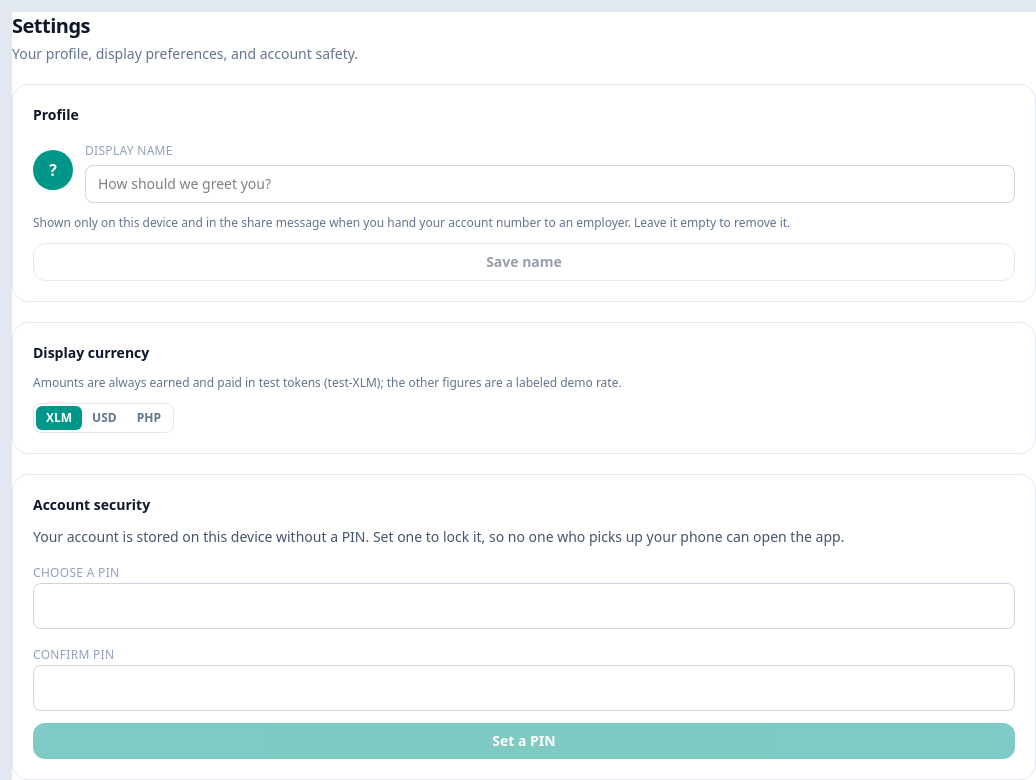
Test: WorkerSettings › saves the display name and disables the button until dirty
The width and height of the screenshot is (1036, 780).
Expected: the button "Save name" is disabled, [33,243,1015,281]
Type "Maria" into the field labelled "Display name" at (550, 184), box [85,165,1015,203]
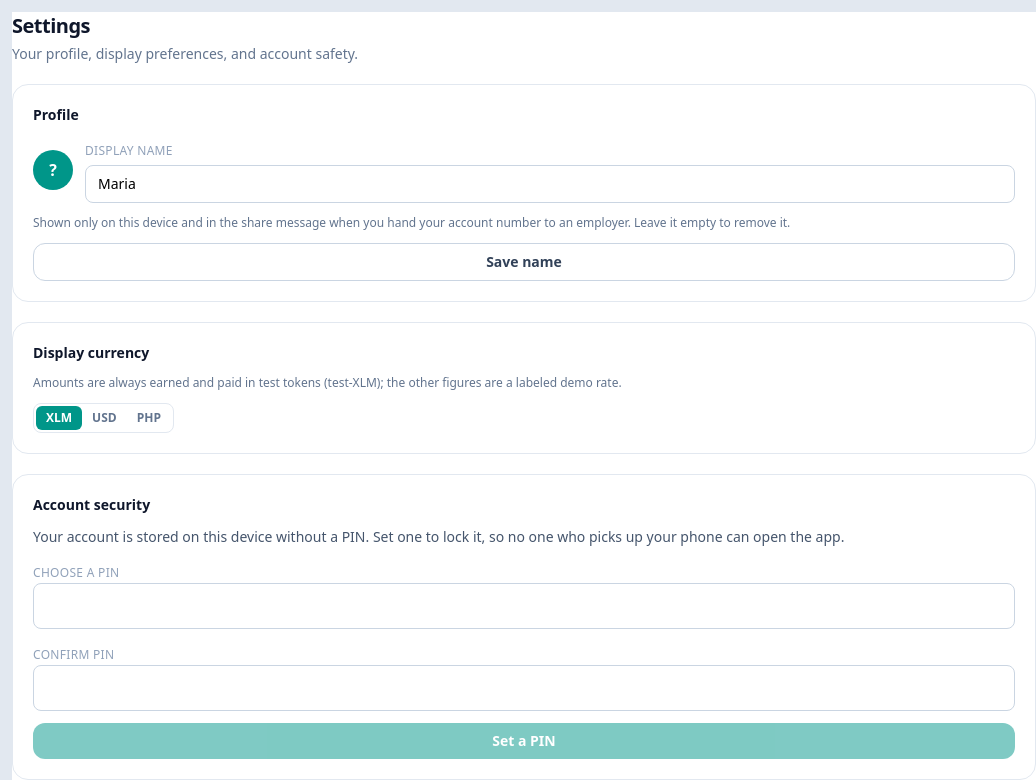
Expected: the button "Save name" is enabled
Click the button "Save name" at (524, 262), box [33,243,1015,281]
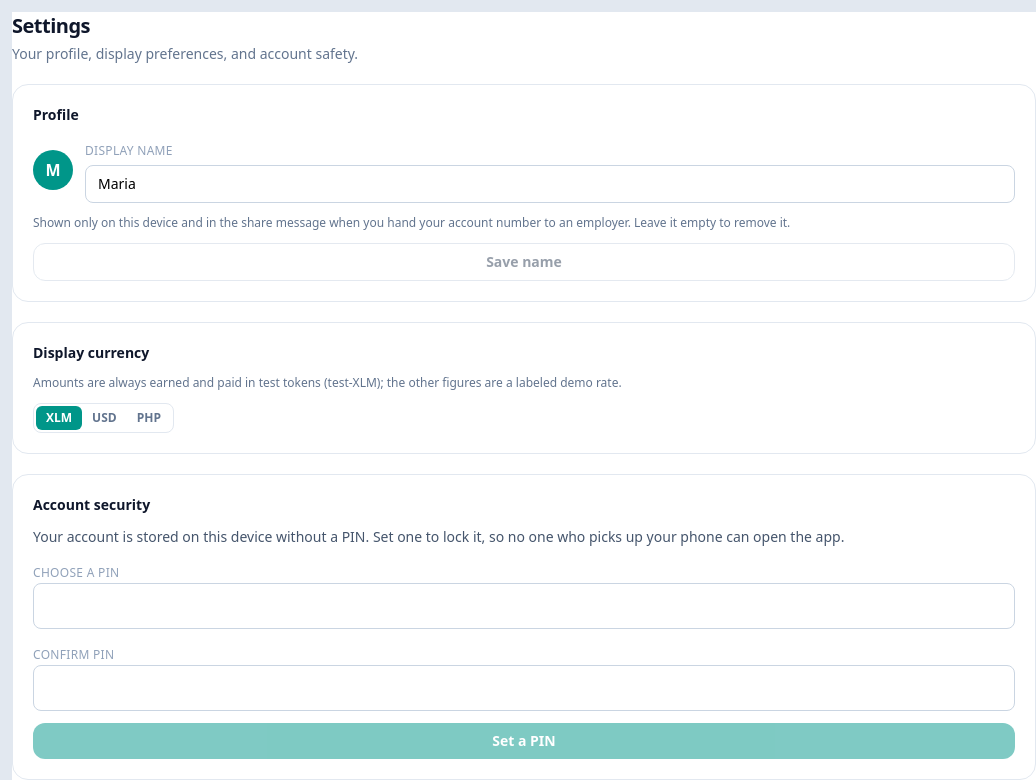
Expected: the button "Save name" is disabled, [33,243,1015,281]
